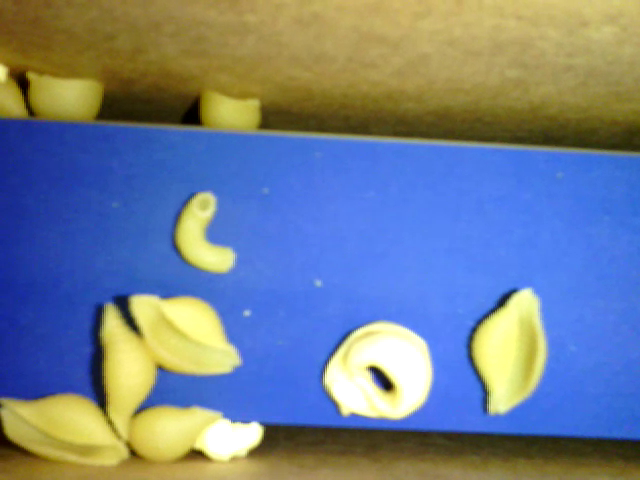elbow: (171, 190, 235, 272)
shell: (470, 284, 549, 415), (1, 388, 131, 466), (126, 293, 241, 373), (99, 299, 160, 442), (116, 405, 222, 467), (23, 70, 103, 120), (198, 90, 260, 130)
tortellini: (320, 321, 434, 421)
